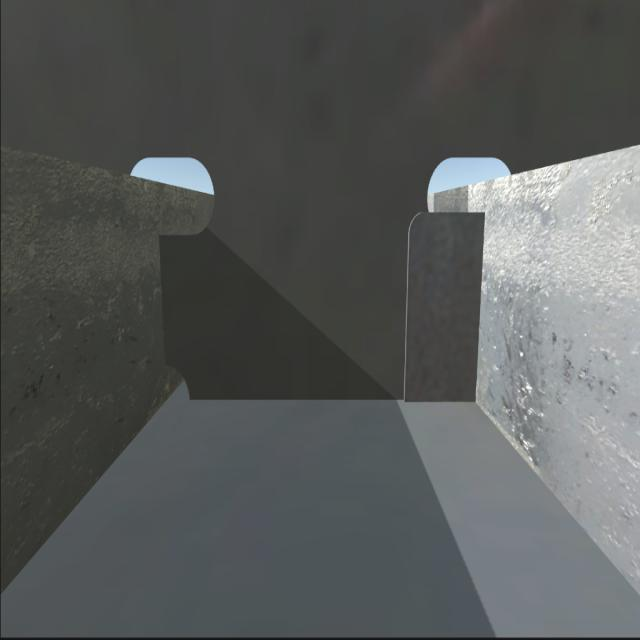fillet_hole: (160, 364, 191, 404)
fillet_yong_jeop_jang: (196, 391, 478, 404)
longi_yong_jeop_jang: (478, 212, 488, 394), (161, 239, 172, 365)
plate_CP05: (408, 206, 487, 396)
